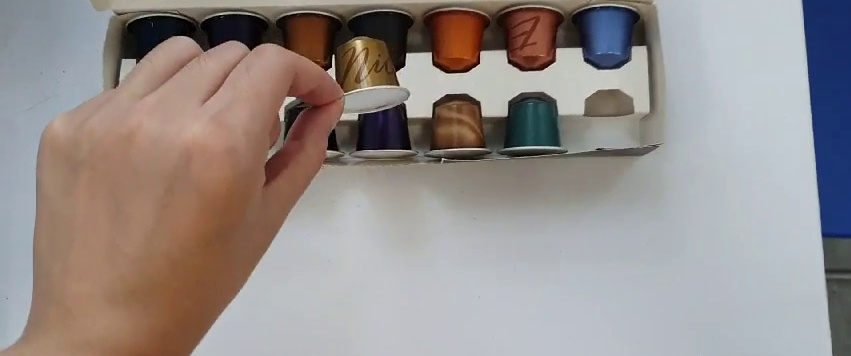capsule_9: (324, 37, 414, 118)
